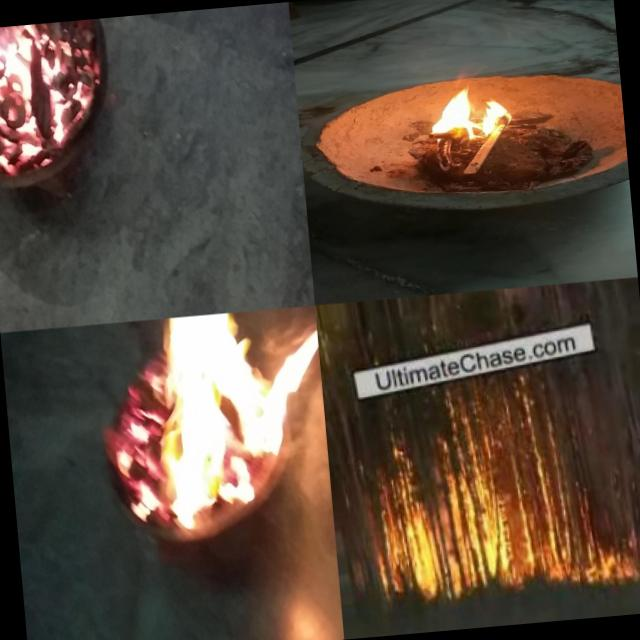fire: (354, 410, 640, 612), (102, 305, 334, 542), (0, 19, 95, 174), (417, 71, 518, 155)
